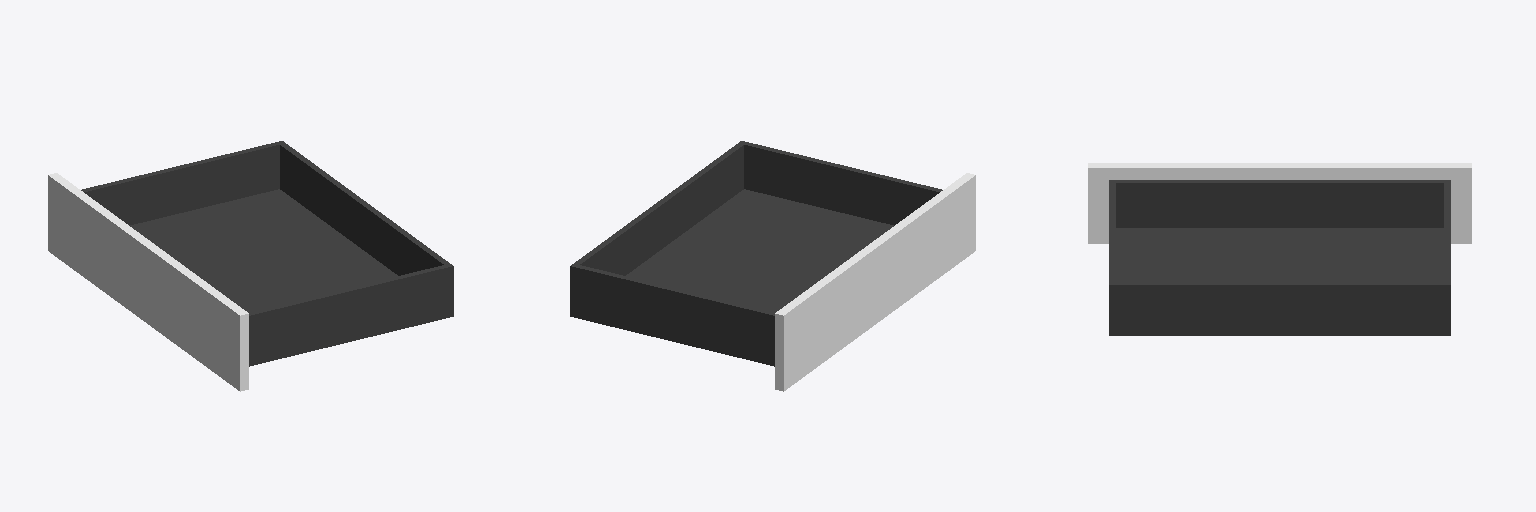
The model's file is Drawer.obj.
The picture shows the model from 3 angles: view 1: azimuth 30°, elevation 25°; view 2: azimuth 150°, elevation 25°; view 3: azimuth 270°, elevation 25°; orthographic projection.
Visible parts, largest first — view 1: Box\Bottom\Solid, Front\Solid, Box\Side\Solid, Box\Side\Solid (2), Box\Back\Solid; view 2: Box\Bottom\Solid, Front\Solid, Box\Side\Solid (2), Box\Side\Solid, Box\Back\Solid; view 3: Box\Back\Solid, Box\Bottom\Solid, Box\Front\Solid, Front\Solid, Box\Side\Solid, Box\Side\Solid (2).
Boxes of the visible parts, box(x1,y1,x2,y2) form: Box\Bottom\Solid: box(130, 189, 397, 312); Front\Solid: box(48, 173, 248, 391); Box\Side\Solid: box(249, 264, 453, 366); Box\Side\Solid (2): box(81, 141, 284, 225); Box\Back\Solid: box(280, 143, 449, 275); Box\Bottom\Solid: box(626, 189, 893, 312); Front\Solid: box(775, 173, 975, 391); Box\Side\Solid (2): box(570, 264, 774, 366); Box\Side\Solid: box(739, 141, 942, 225); Box\Back\Solid: box(574, 143, 743, 275); Box\Back\Solid: box(1116, 282, 1443, 335); Box\Bottom\Solid: box(1116, 228, 1443, 281); Box\Front\Solid: box(1109, 180, 1450, 227); Front\Solid: box(1088, 163, 1471, 243); Box\Side\Solid: box(1109, 183, 1115, 335); Box\Side\Solid (2): box(1444, 183, 1450, 335).
Size of the model in its own units: 470 by 152 by 698.